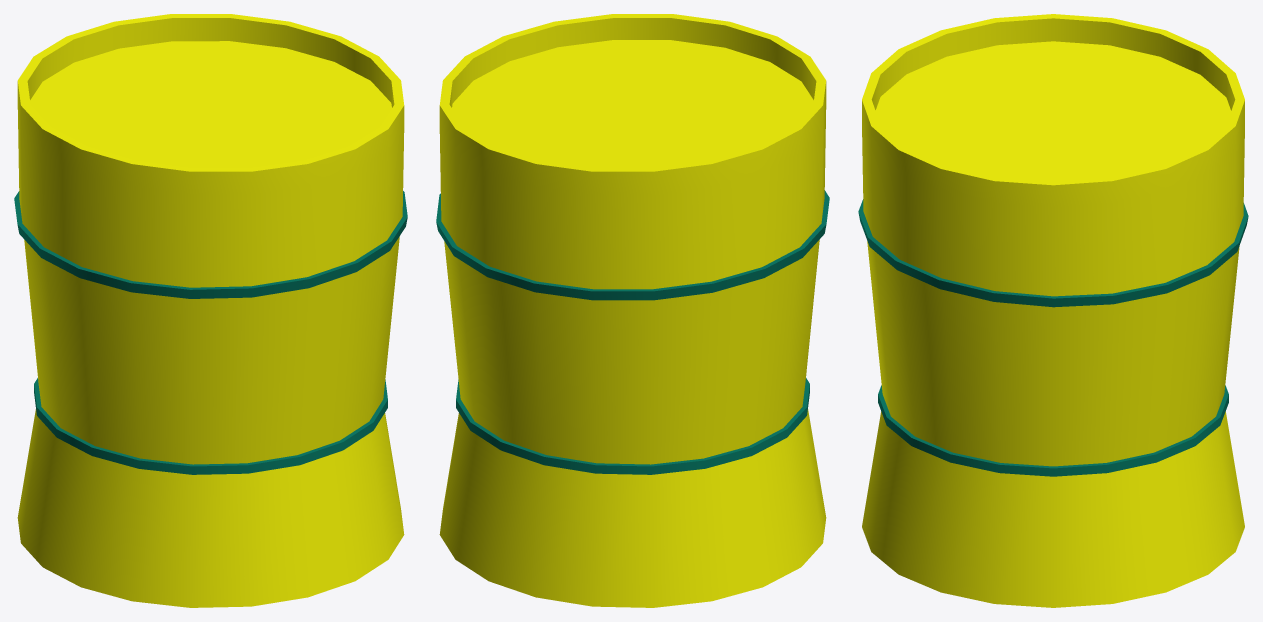
Rendered from SM_barils_abime.fbx.
3 renders of one model, left to right at view 1: azimuth 30°, elevation 25°; view 2: azimuth 150°, elevation 25°; view 3: azimuth 270°, elevation 25°, orthographic.
Parts seen in each view (by area): view 1: SM_barils_abime; view 2: SM_barils_abime; view 3: SM_barils_abime.
Boxes of the visible parts, bbox=[...] form: SM_barils_abime: bbox=[14, 14, 407, 607]; SM_barils_abime: bbox=[436, 14, 829, 607]; SM_barils_abime: bbox=[858, 14, 1248, 607].
Size of the model in its own units: 0.483 by 0.59 by 0.483.
